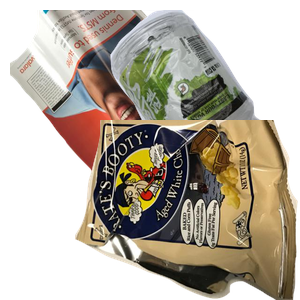glass: (94, 184, 253, 300)
paper: (10, 10, 250, 190)
plastic: (73, 10, 300, 190)
trash: (75, 120, 300, 300)
